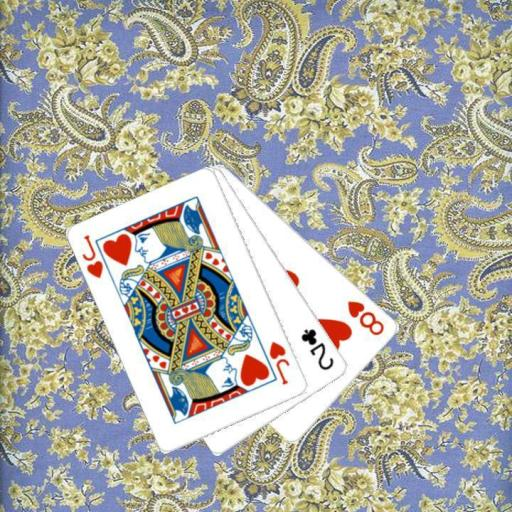card-corner: (298, 326, 336, 372), (345, 297, 386, 337), (266, 338, 292, 387), (80, 232, 105, 280)
